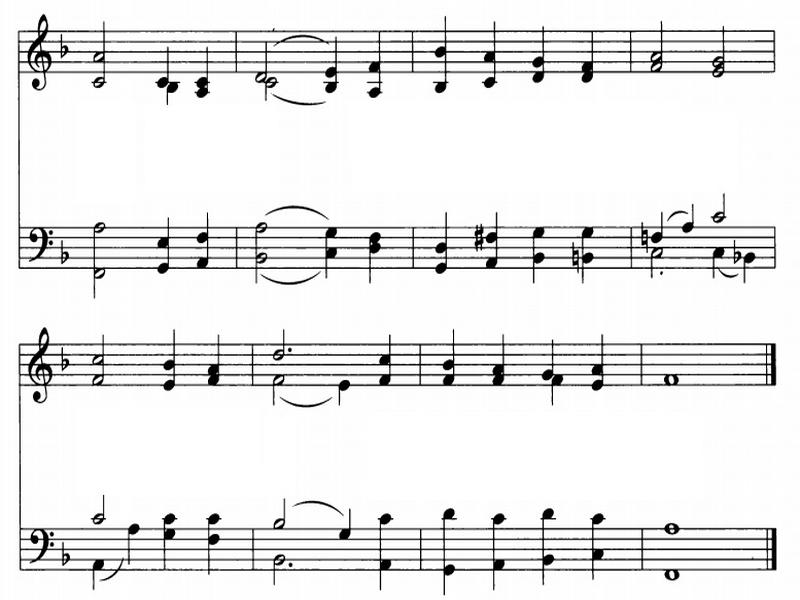B: (645, 4, 674, 84), (707, 9, 735, 84), (88, 218, 109, 310), (89, 12, 113, 92), (252, 216, 276, 291), (712, 179, 748, 224), (92, 333, 115, 389), (92, 13, 114, 64), (86, 214, 109, 260), (252, 34, 271, 85), (90, 484, 113, 526), (85, 264, 112, 298), (266, 373, 288, 410), (268, 322, 287, 364), (251, 248, 273, 284), (267, 494, 291, 525), (267, 550, 286, 584), (90, 70, 115, 93), (253, 220, 271, 251), (264, 78, 283, 104), (648, 245, 659, 283)
Bem: (55, 242, 73, 269), (56, 345, 71, 374), (59, 542, 73, 572), (54, 36, 72, 58), (732, 237, 742, 265)
CF: (25, 225, 56, 269), (27, 521, 52, 574)
CS: (27, 320, 57, 409), (26, 6, 50, 101)
N: (529, 495, 566, 592), (421, 4, 456, 94), (150, 491, 185, 580), (194, 494, 230, 577), (523, 15, 563, 84), (360, 26, 393, 108), (432, 503, 461, 596), (484, 203, 518, 278), (489, 486, 513, 588), (201, 322, 234, 394), (587, 320, 617, 398), (480, 324, 518, 384), (372, 501, 397, 588), (478, 2, 502, 91), (158, 324, 187, 396), (431, 328, 465, 388), (427, 204, 453, 281), (190, 26, 217, 100), (523, 211, 548, 289), (363, 218, 391, 287), (323, 218, 351, 284), (152, 214, 180, 278), (586, 506, 610, 578), (574, 19, 598, 90), (319, 29, 344, 95), (374, 332, 401, 389), (579, 220, 602, 282), (145, 35, 173, 84), (532, 331, 556, 384), (333, 506, 360, 544), (126, 512, 145, 566), (87, 551, 110, 591), (197, 211, 212, 272), (704, 244, 728, 281), (741, 247, 765, 280), (549, 374, 570, 408), (683, 201, 702, 235), (333, 376, 354, 406), (652, 212, 668, 244), (167, 80, 178, 104)
R: (659, 565, 687, 593), (657, 371, 684, 395), (654, 517, 692, 534)
SOS: (461, 215, 489, 249), (562, 243, 580, 277), (637, 219, 651, 254)
